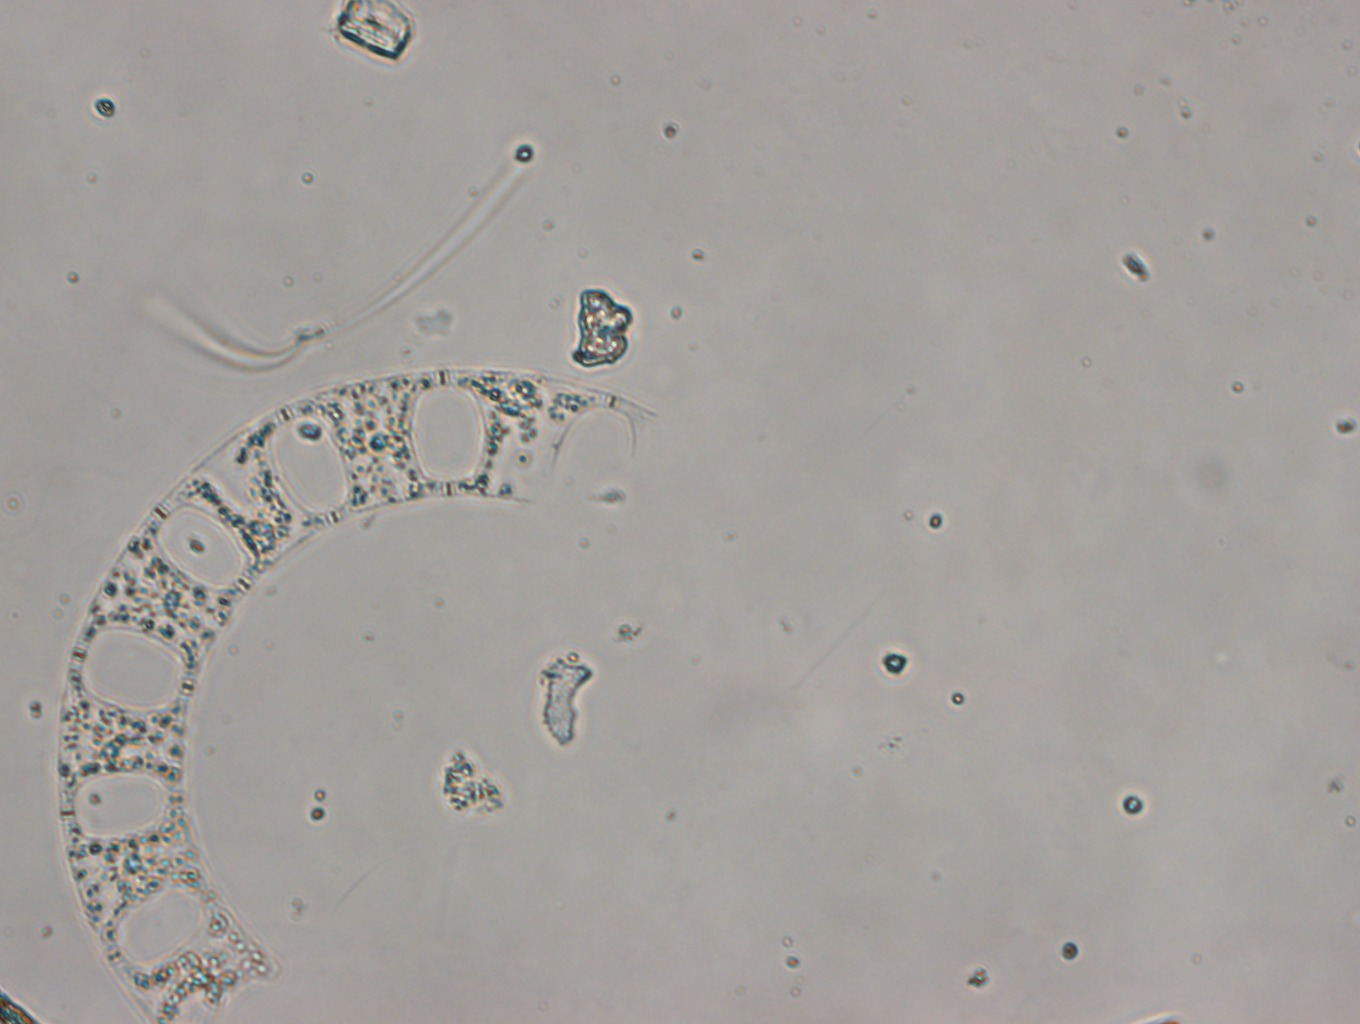eucampia: (57, 368, 661, 1022)
